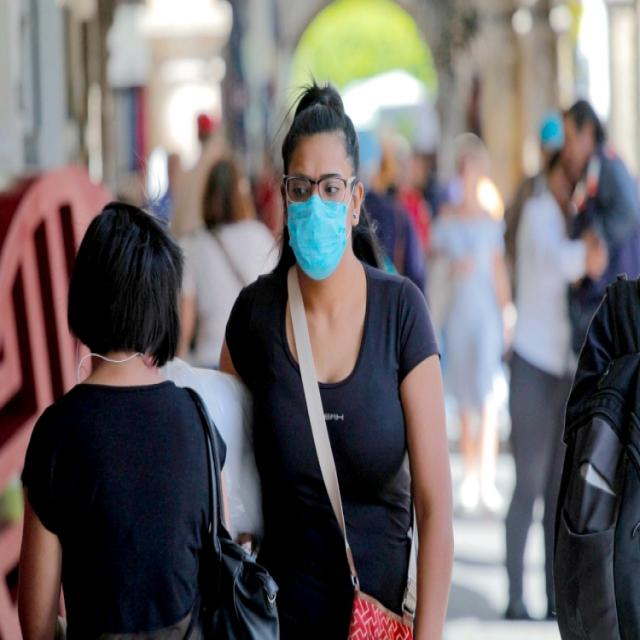adult: (218, 92, 453, 640), (20, 193, 226, 640)
